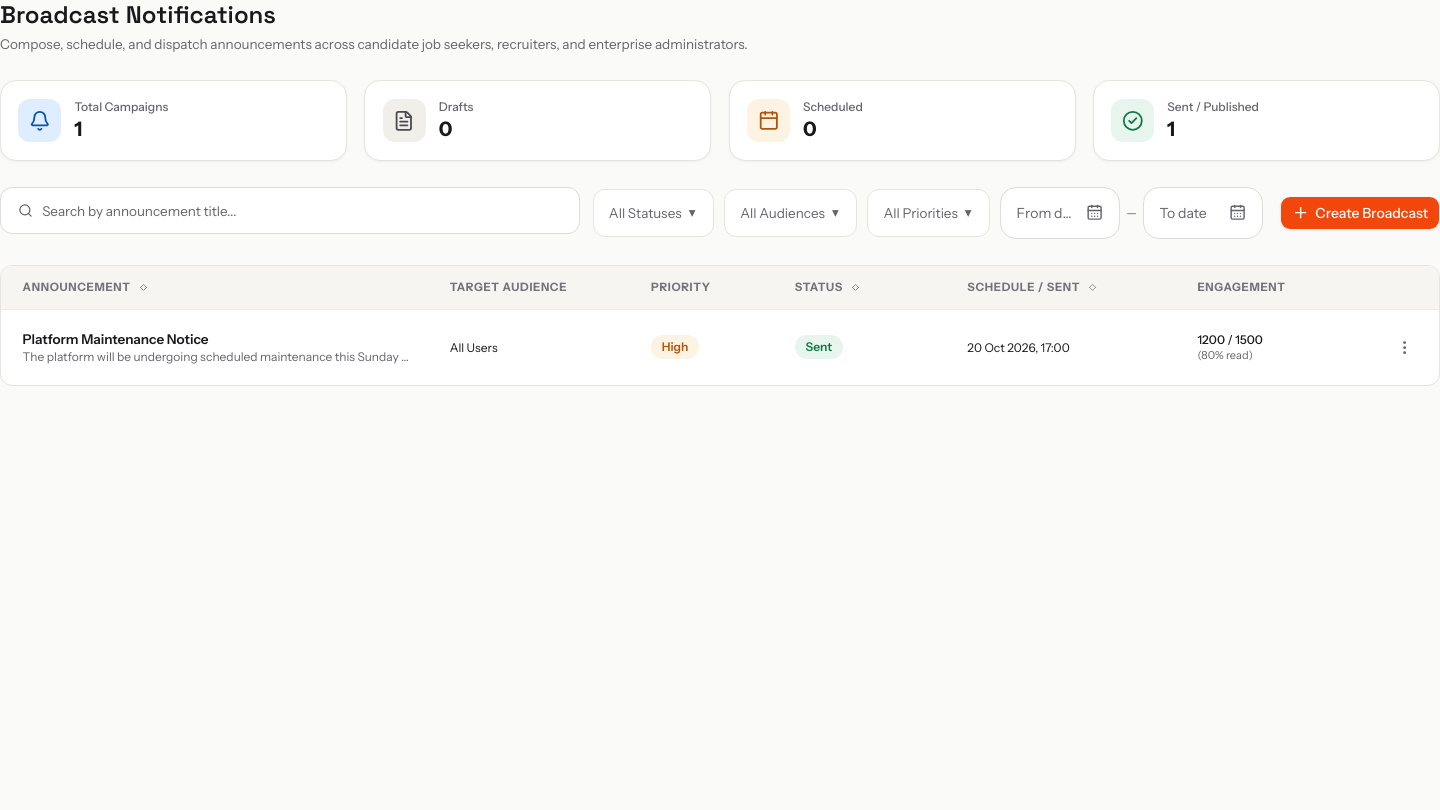
Test: Broadcast Notifications Feature Tests (UC 01 - UC 07) › opens detail drawer when clicking a broadcast item in the table
The image size is (1440, 810).
Step 1. Click the text "Platform Maintenance Notice" → (116, 339), box [23,331,208,347]
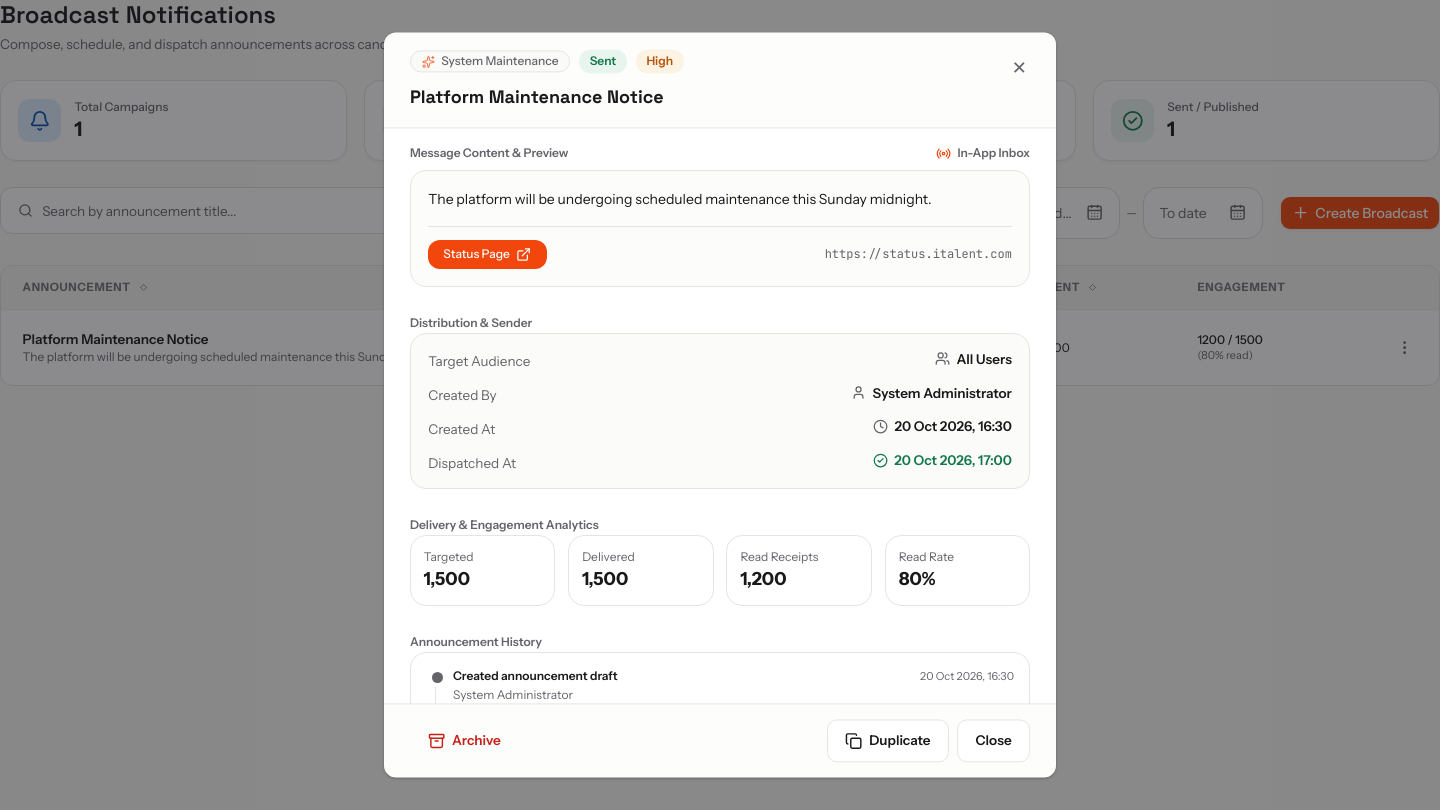
Check: the text "Message Content & Preview" is shown, box [410,146,568,162]
Check: the text "Delivery & Engagement Analytics" is shown, box [410,517,599,532]
Check: the text "Status Page" is shown, box [443,247,510,263]
